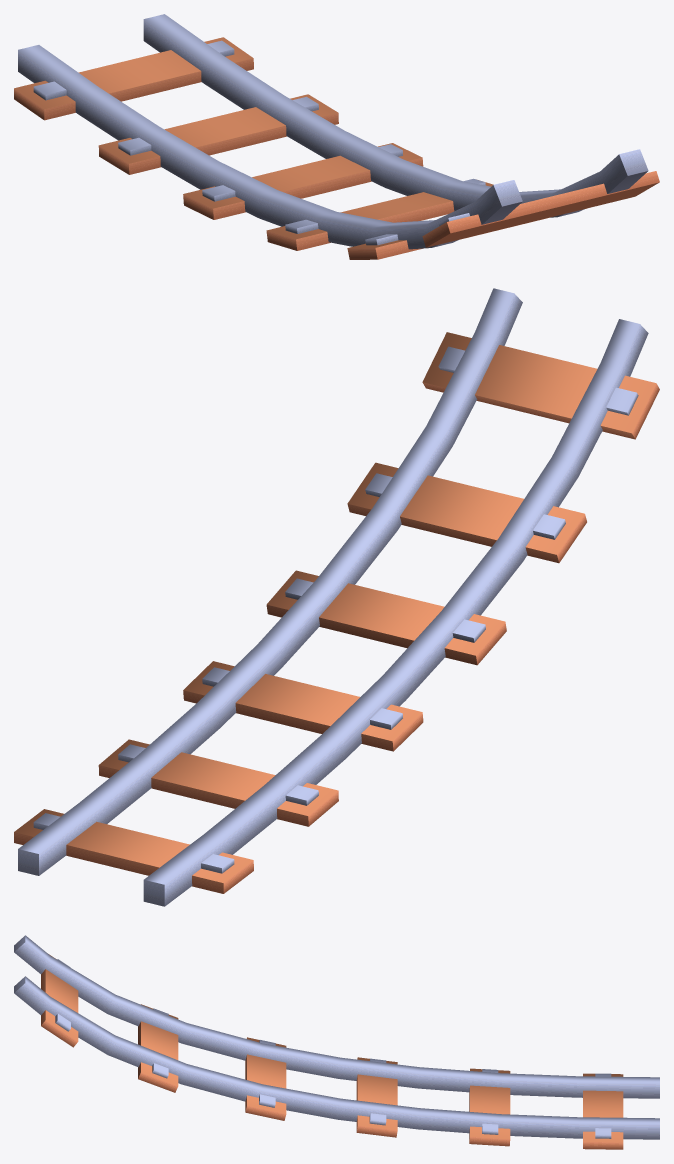
The model's file is railroad-straight-hill-beginning.glb.
3 renders of one model, top to bottom at view 1: azimuth 30°, elevation 25°; view 2: azimuth 150°, elevation 25°; view 3: azimuth 270°, elevation 25°, orthographic. The views are drawn at different scales.
Parts seen in each view (by area): view 1: railroad-straight-hill-beginning; view 2: railroad-straight-hill-beginning; view 3: railroad-straight-hill-beginning.
Boxes of the visible parts, <box> form: railroad-straight-hill-beginning: <box>14,14,659,259</box>; railroad-straight-hill-beginning: <box>14,288,659,906</box>; railroad-straight-hill-beginning: <box>14,935,659,1149</box>.
Bounding box in the file's own units: 1 × 1.07 × 4.
1 material, 1 textured.
